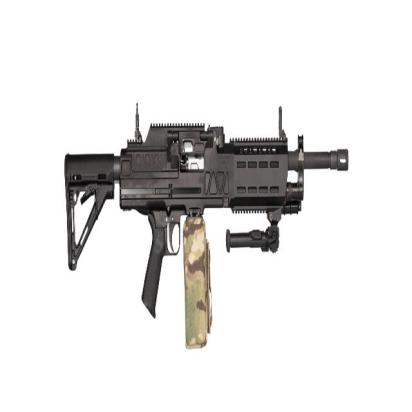Gun: (64, 98, 350, 351)
